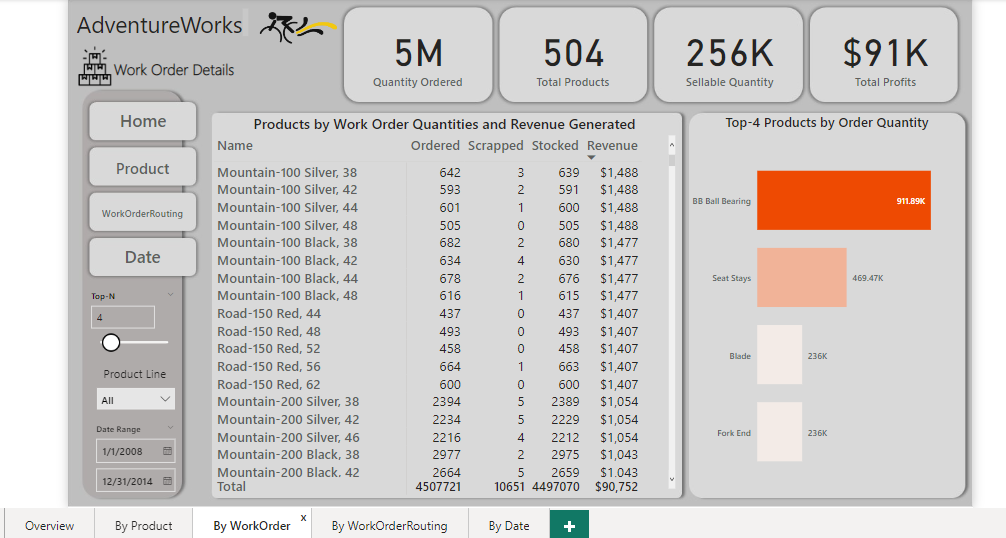

This screenshot's page, from the dashboard's own definition file:
{"tool":"powerbi","page":{"name":"By WorkOrder","canvas":[1280,720],"ordinal":2},"visuals":[{"type":"card","fields":{"Values":["All Mesures.Total Units"]},"box":[609.7,8.5,209.4,141.5],"z":0},{"type":"card","fields":{"Values":["All Mesures.Total Profits"]},"box":[1052.4,8.5,207.9,141.5],"z":1000},{"type":"card","fields":{"Values":["Sum(Production_WorkOrder.OrderQty)"]},"box":[390.4,8.5,209.4,141.5],"z":2000},{"type":"card","fields":{"Values":["All Measures.Sold Qty"]},"box":[828.9,8.5,213.6,141.5],"z":3000},{"type":"pivotTable","title":"Products by Work Order Quantities and Revenue Generated","fields":{"Values":["Sum(Production_WorkOrder.OrderQty)","Sum(Production_WorkOrder.ScrappedQty)","Sum(Production_WorkOrder.StockedQty)","All Measures.Total Profits"],"Rows":["Production_Product.Name"]},"box":[200.9,161.3,663.4,544.6],"z":4000},{"type":"textbox","box":[49.5,79.2,200.9,41],"z":5000},{"type":"textbox","box":[7.1,8.5,253.2,50.9],"z":6000},{"type":"image","box":[260.3,8.5,127.3,65.1],"z":7000},{"type":"image","box":[0,59.4,75,70.7],"z":8000},{"type":"actionButton","title":"Active P","box":[31.1,140,149.9,62.2],"z":9000},{"type":"actionButton","title":"Active WO","box":[35.4,212.2,140,52.3],"z":10000},{"type":"actionButton","title":"Active WOR","box":[35.4,275.8,140,52.3],"z":11000},{"type":"actionButton","title":"Actice D","box":[35.4,333.8,140,59.4],"z":12000},{"type":"clusteredBarChart","fields":{"Category":["Production_Product.Name"],"Y":["All Measures.Ranking"]},"box":[877,161.3,393.2,544.6],"z":13000},{"type":"slicer","fields":{"Values":["SelectRanking.SelectRanking"]},"box":[19.8,406,142.9,104.7],"z":14000},{"type":"slicer","fields":{"Values":["Calendar.Date"]},"box":[26.9,594.1,135.8,110.3],"z":15000},{"type":"slicer","title":"Filter by Product Line","fields":{"Values":["Production_Product.ProductLine"]},"box":[31.1,540.4,130.1,53.8],"z":16000},{"type":"textbox","box":[26.9,510.6,130.1,36.8],"z":17000}]}

Visuals, with their boxes on the page's 1280x720 design canvas (x1, y1, x2, y2). These are canvas units, not pixel positions in the 1006x538 screenshot, which may show the page scaled, cropped or inside an application window:
card - All Mesures.Total Units: 610:8:819:150
card - All Mesures.Total Profits: 1052:8:1260:150
card - Sum(Production_WorkOrder.OrderQty): 390:8:600:150
card - All Measures.Sold Qty: 829:8:1042:150
"Products by Work Order Quantities and Revenue Generated" pivotTable: 201:161:864:706
textbox: 50:79:250:120
textbox: 7:8:260:59
image: 260:8:388:74
image: 0:59:75:130
"Active P" actionButton: 31:140:181:202
"Active WO" actionButton: 35:212:175:264
"Active WOR" actionButton: 35:276:175:328
"Actice D" actionButton: 35:334:175:393
clusteredBarChart - Production_Product.Name x All Measures.Ranking: 877:161:1270:706
slicer - SelectRanking.SelectRanking: 20:406:163:511
slicer - Calendar.Date: 27:594:163:704
"Filter by Product Line" slicer: 31:540:161:594
textbox: 27:511:157:547
